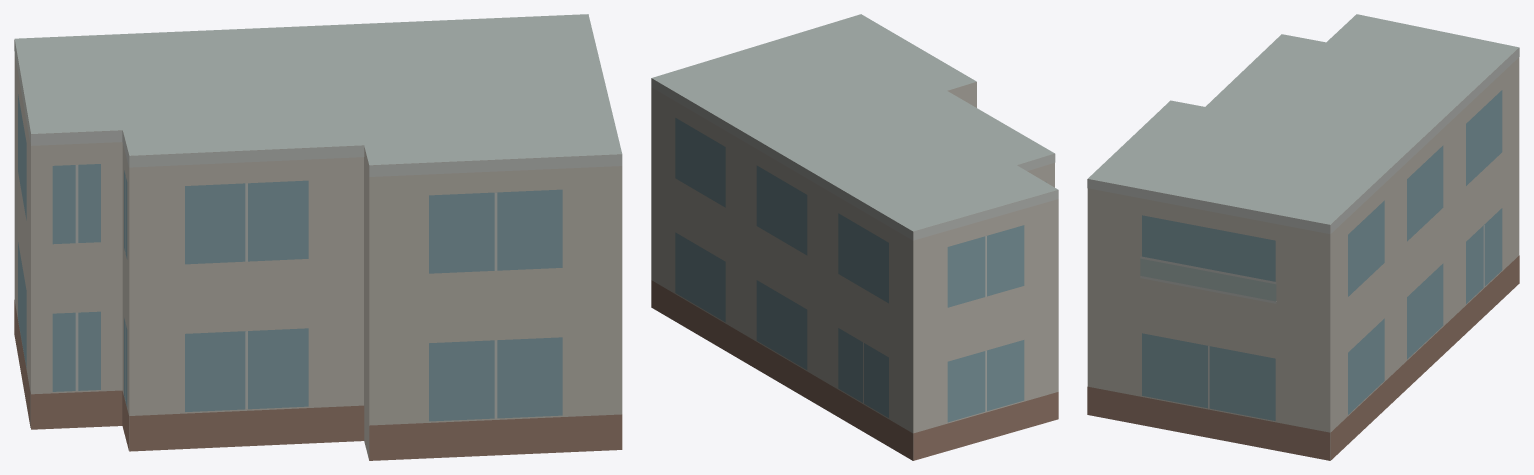
File: survey-upis-32826463.glb
The picture shows the model from 3 angles, left to right: view 1: azimuth 30°, elevation 25°; view 2: azimuth 150°, elevation 25°; view 3: azimuth 270°, elevation 25°; orthographic projection. The views are drawn at different scales.
Parts seen in each view (by area): view 1: survey-upis-32826463.tmp; view 2: survey-upis-32826463.tmp; view 3: survey-upis-32826463.tmp.
Part boxes in pixels (x1,y1,x2,y2): survey-upis-32826463.tmp: (14, 14, 622, 460); survey-upis-32826463.tmp: (651, 14, 1058, 460); survey-upis-32826463.tmp: (1087, 14, 1519, 460).
Bounding box in the file's own units: 11.7 × 6.1 × 10.13.
